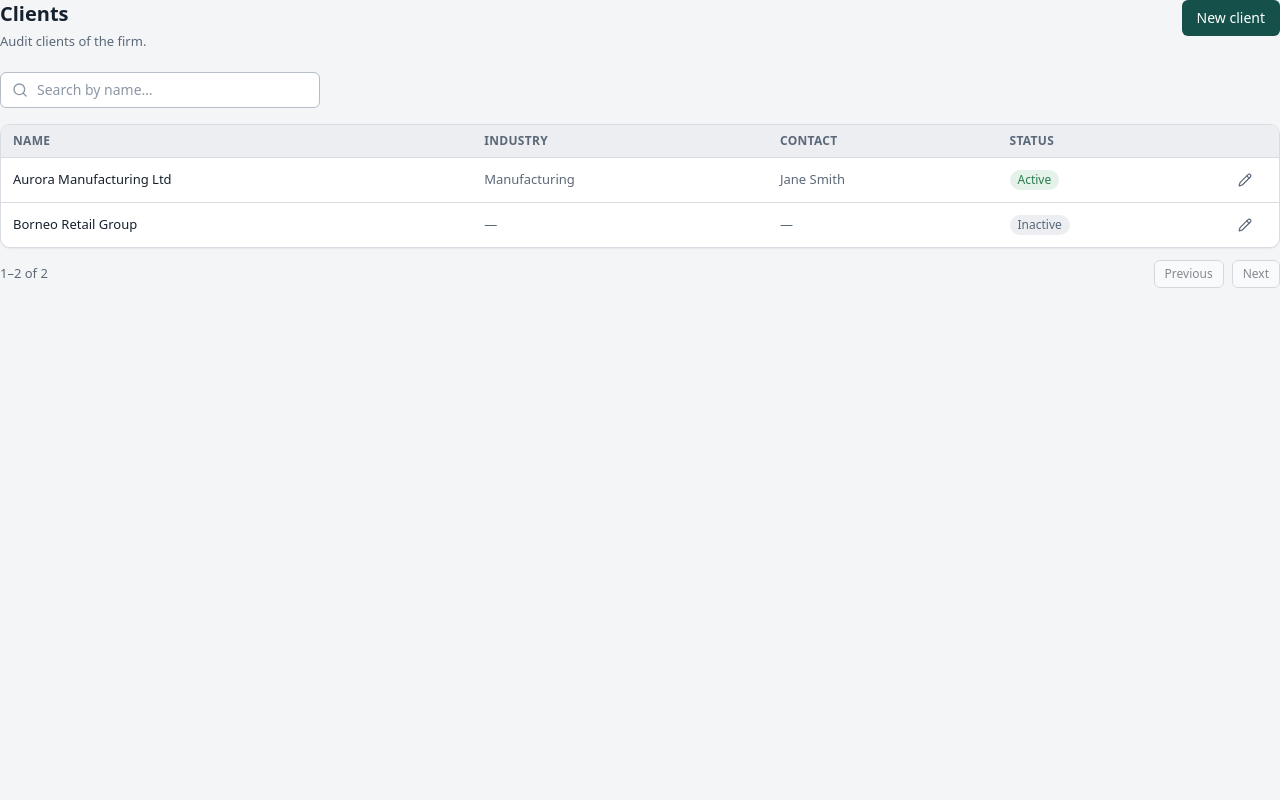
it: ClientsPage › blocks saving a client without a name
The width and height of the screenshot is (1280, 800).
Expected: the text "Aurora Manufacturing Ltd" is shown, x1=1 y1=157 x2=472 y2=202
Click the button "New client". click: (1231, 18)
box: x1=1182 y1=0 x2=1279 y2=36
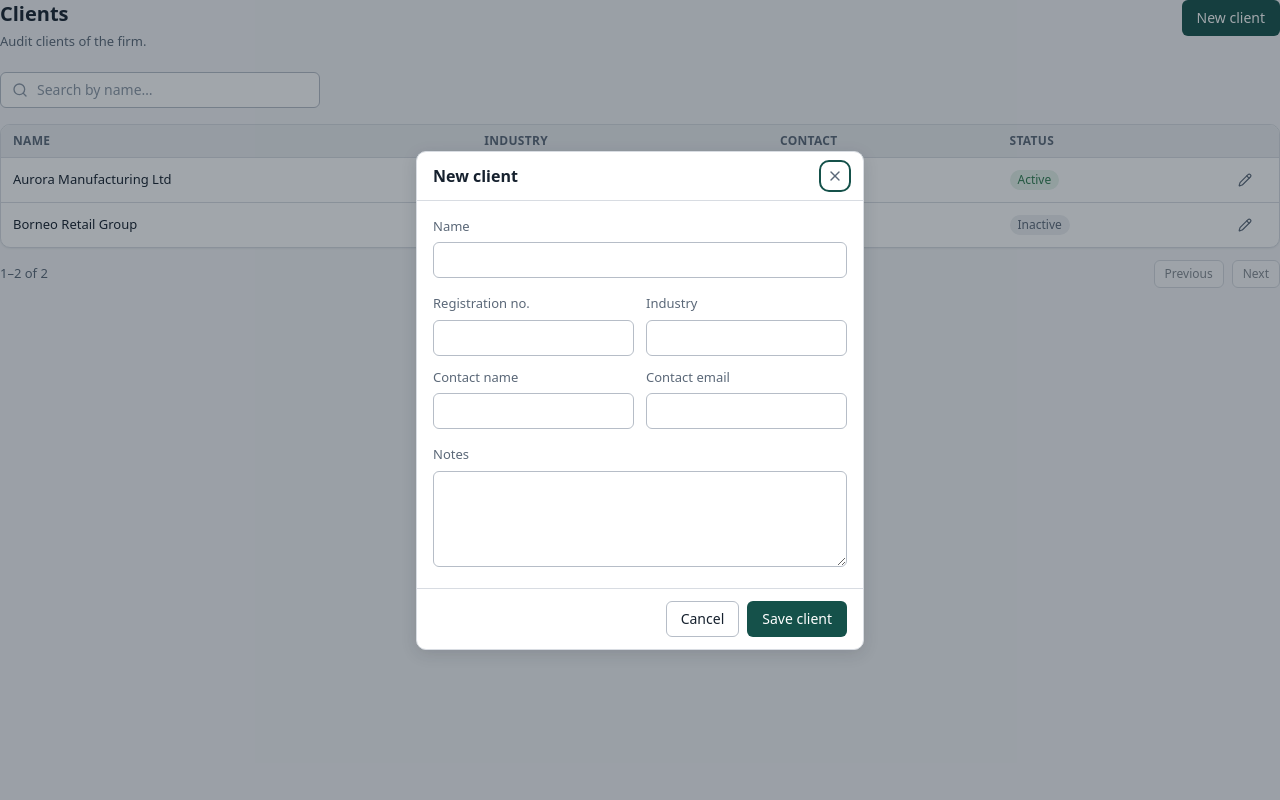
Click the button "Save client". click: (797, 618)
box: x1=747 y1=600 x2=847 y2=636
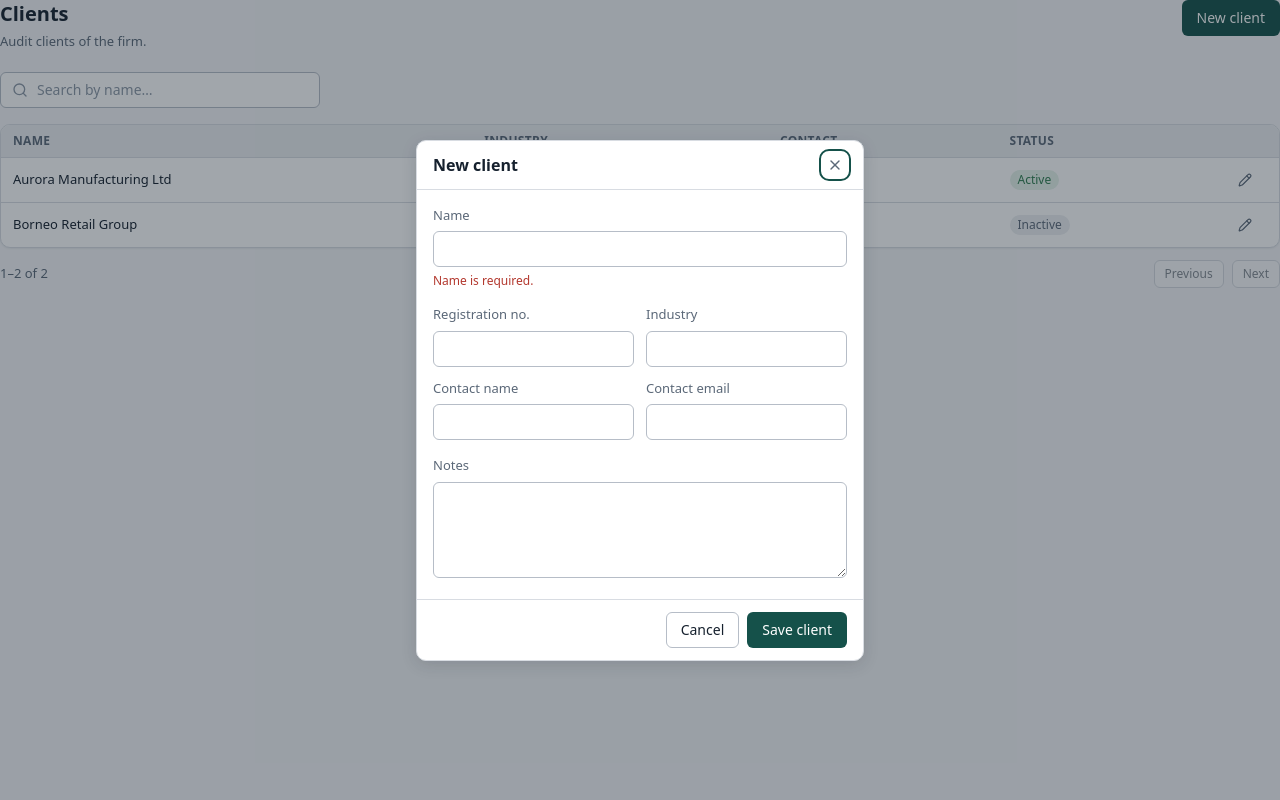
Expected: the text "Name is required." is shown, x1=433 y1=272 x2=533 y2=289
